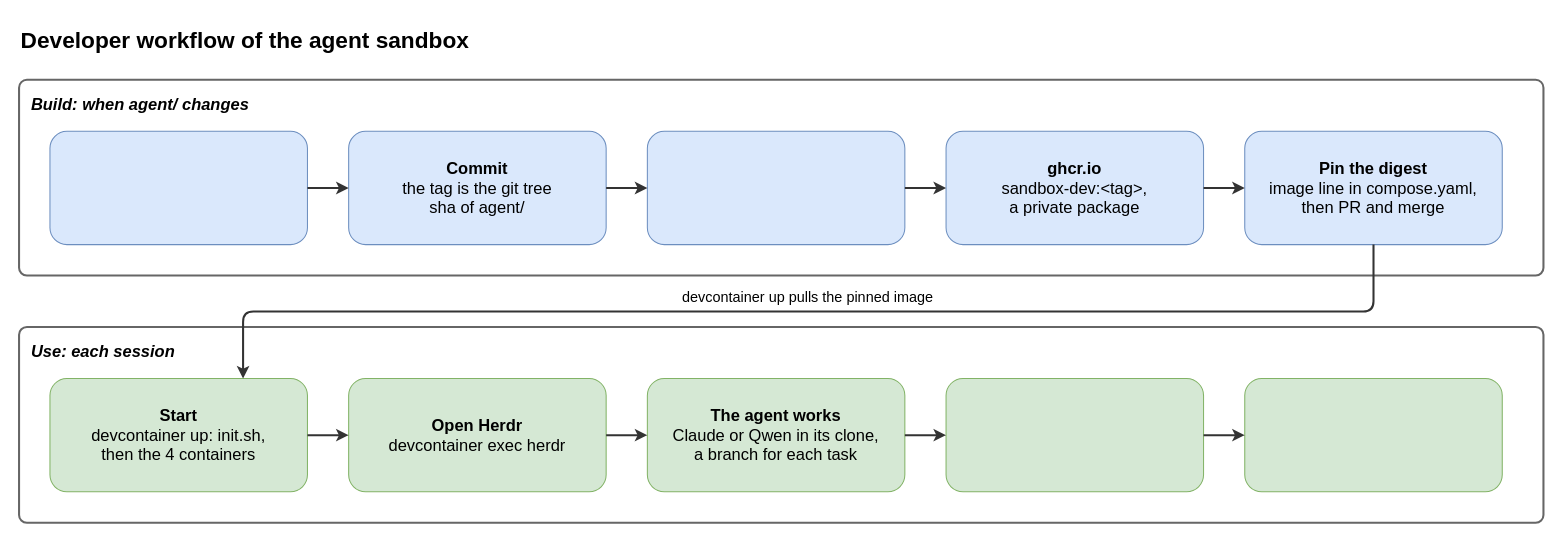
The diagram is 1561 pixels wide and 541 high, and some of its shapes have lost their labels. Here are the shapes that lost their labels. From the top down, the centre of each, then its label:
At (x=178, y=187): "Edit agent/ Dockerfile, tools/*.toml".
At (x=775, y=187): "Build and push devcontainer build --push, layer cache in :cache".
At (x=1074, y=434): "Push and open a PR through the agent proxy, this repo only".
At (x=1373, y=434): "You review and merge on GitHub. The proxy blocks a merge.".
